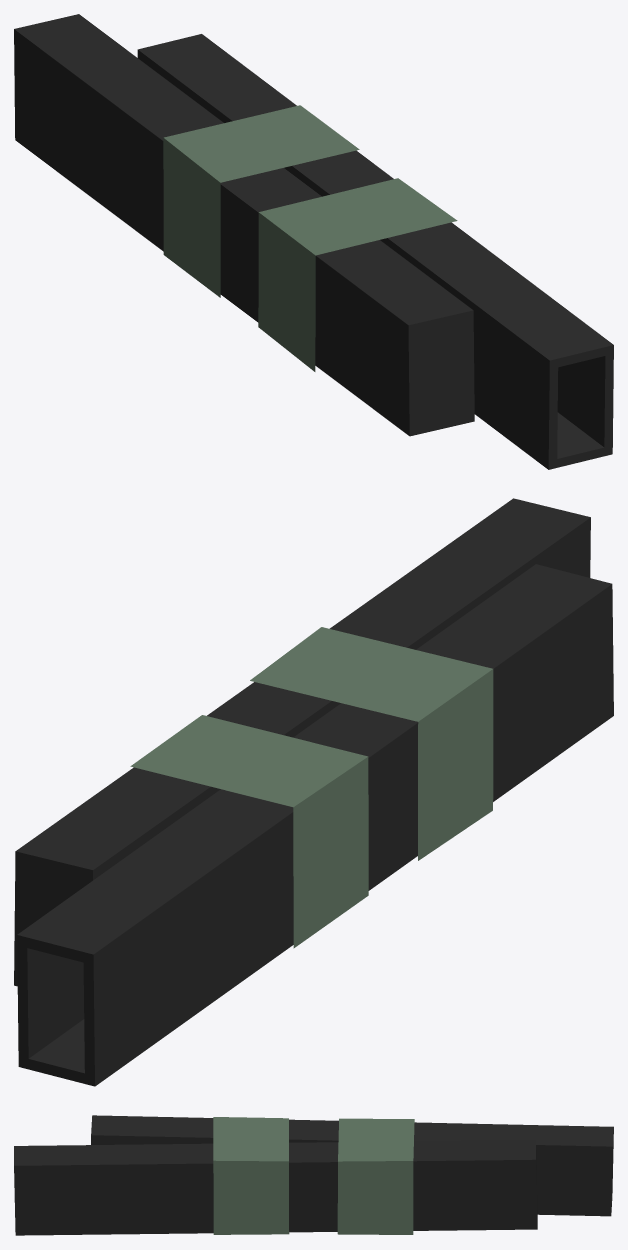
File: GreasegunSMag.glb
3 renders of one model, top to bottom at view 1: azimuth 30°, elevation 25°; view 2: azimuth 150°, elevation 25°; view 3: azimuth 270°, elevation 25°, orthographic. The views are drawn at different scales.
Parts seen in each view (by area): view 1: GreasegunSMag; view 2: GreasegunSMag; view 3: GreasegunSMag.
Part boxes in pixels (box(x1,y1,x2,y2)): GreasegunSMag: box(14, 14, 613, 469); GreasegunSMag: box(14, 498, 613, 1086); GreasegunSMag: box(14, 1115, 613, 1235).
Size of the model in its own units: 0.5475 by 0.4305 by 3.09.
1 material, 1 textured.
